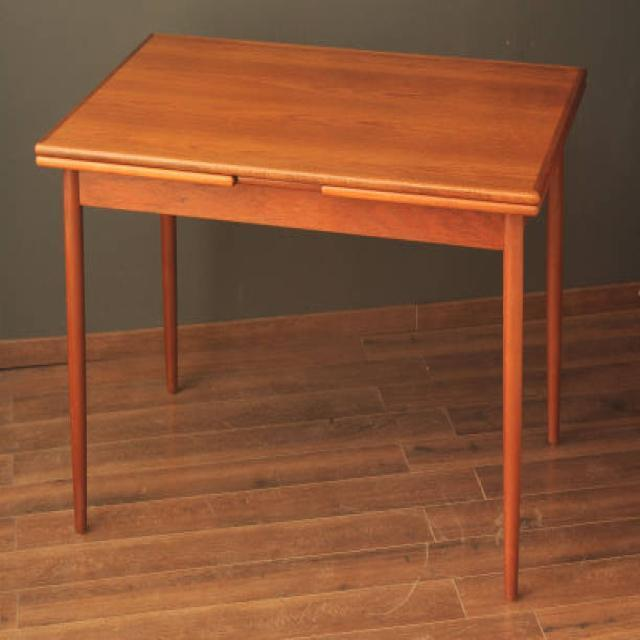table: (34, 28, 586, 599)
